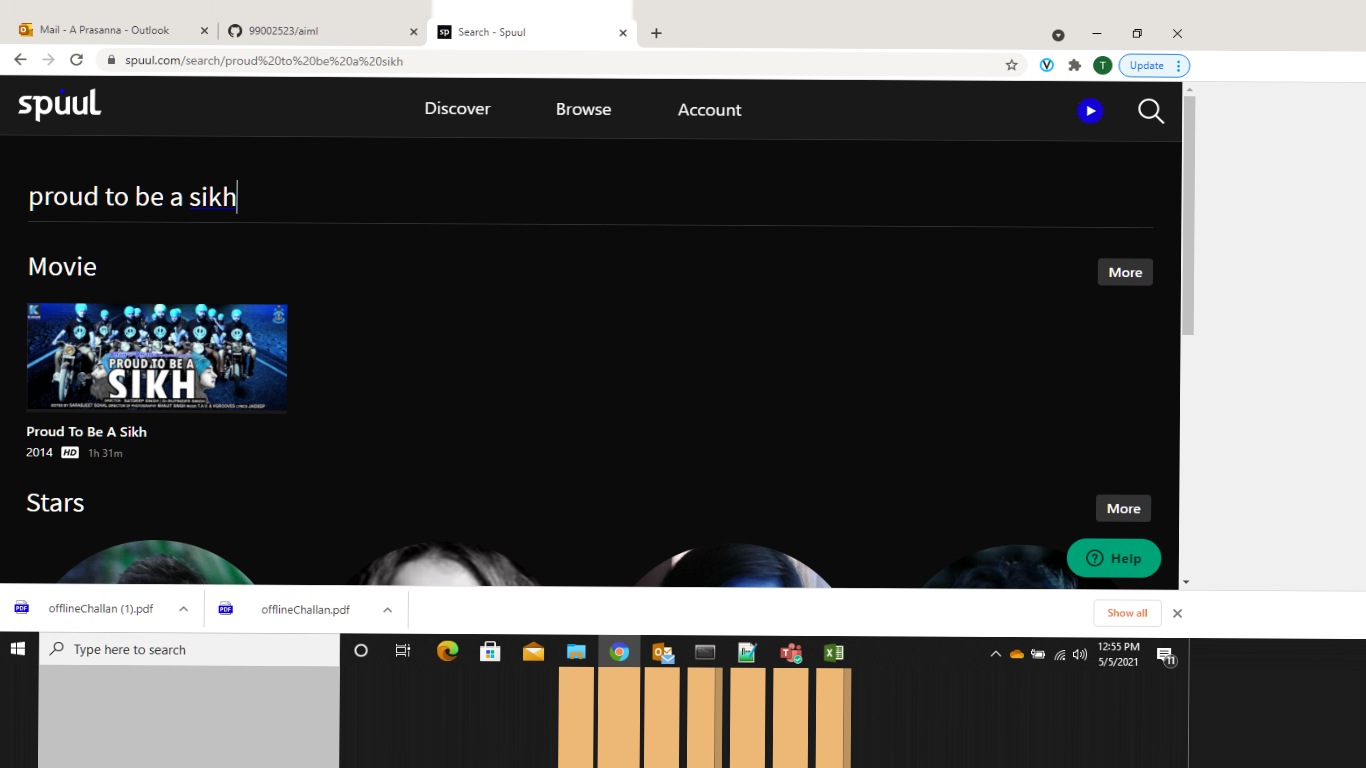myaccountbutton: (664, 82, 782, 129)
resultsfound: (23, 251, 297, 301)
searchicon: (1123, 89, 1178, 135)
searchtextbox: (23, 177, 1156, 249)
